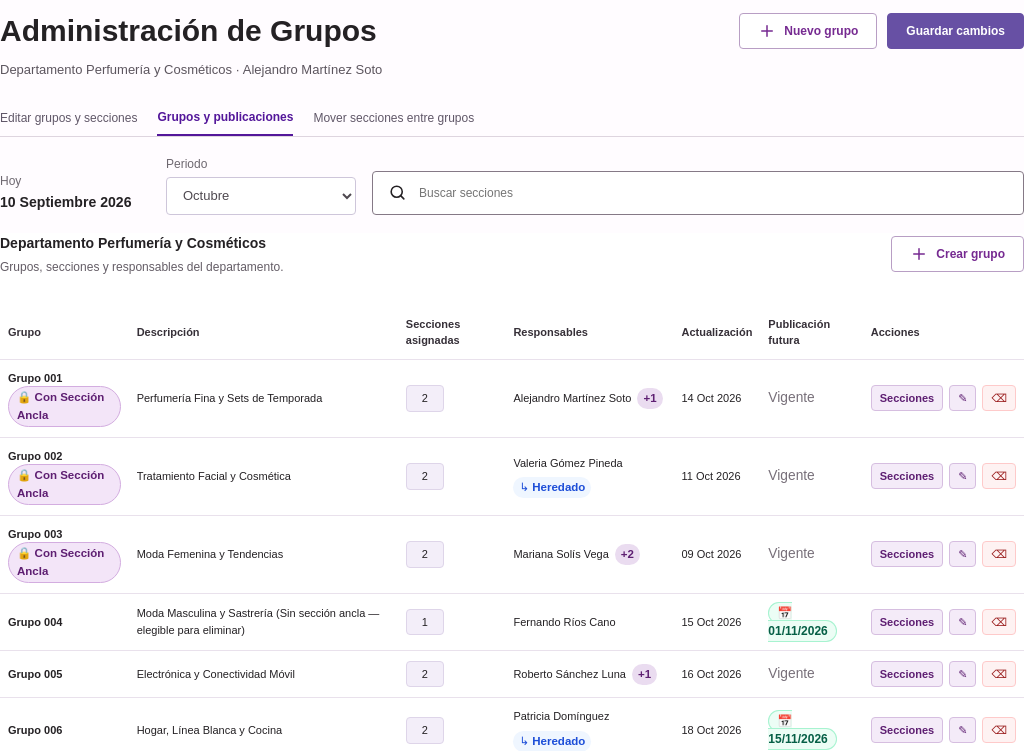
Test case: Feature 3 — Gestión de Estructuras, Grupos y Secciones (CU-EST-001, CU-ADM-001..004) › CU-ADM-004: Permite mover secciones entre grupos con bandeja de cambios pendientes y confirmación de impacto
The image size is (1024, 751).
Cambiar a la pestaña 3: Mover Secciones entre Grupos (CU-ADM-004)
Click the tab with aria-label "3. Mover Secciones entre Grupos" at (394,118), box [313,100,474,136]
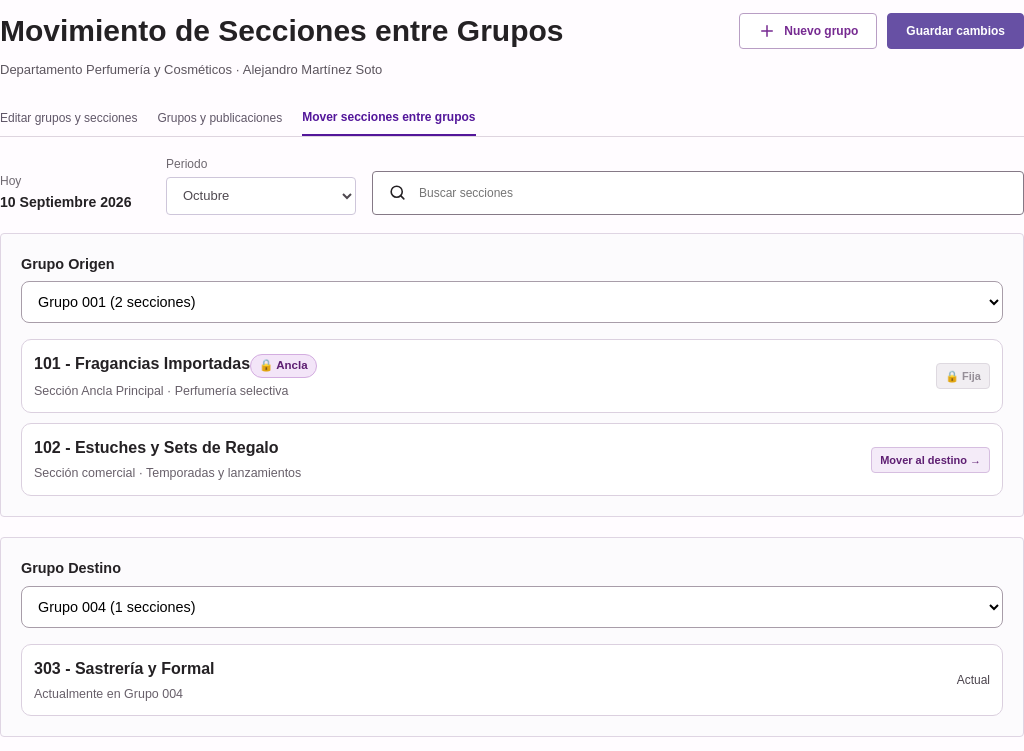
Check: the button "Mover al destino →" is shown
Click the button "Mover al destino →" at (931,460), box [871,447,990,473]
(page scrolled)
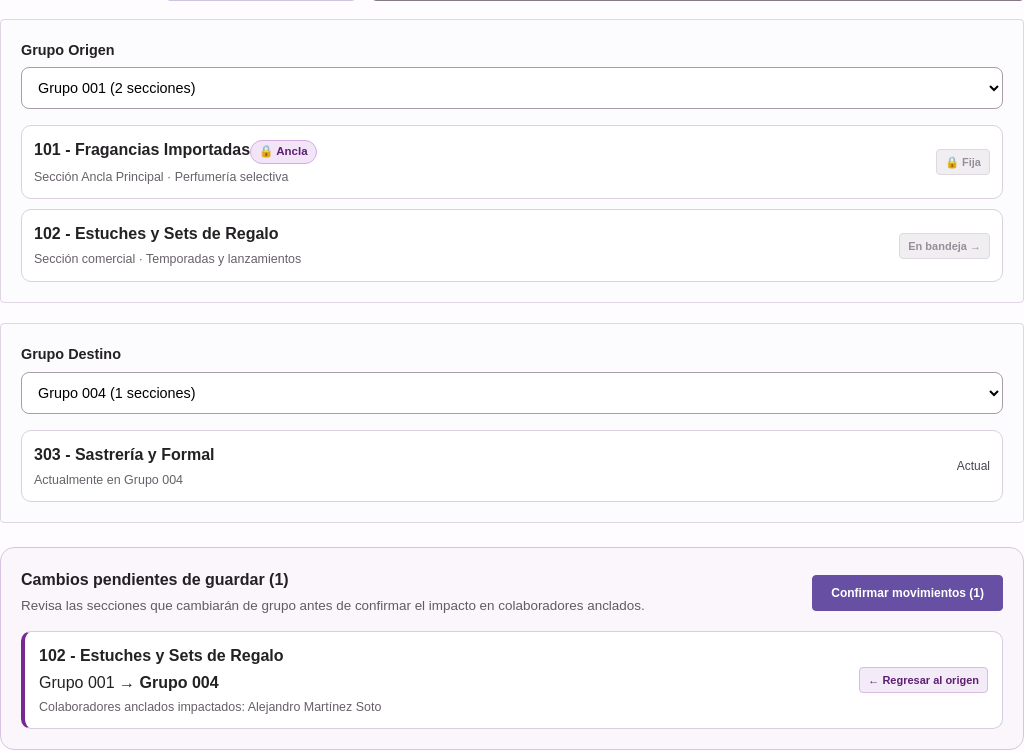
Check: the button "← Regresar al origen" is shown, box [859,667,988,693]
Abrir modal de confirmación de movimientos
Click the button "Confirmar movimientos (1)" at (908,593), box [812,575,1003,611]
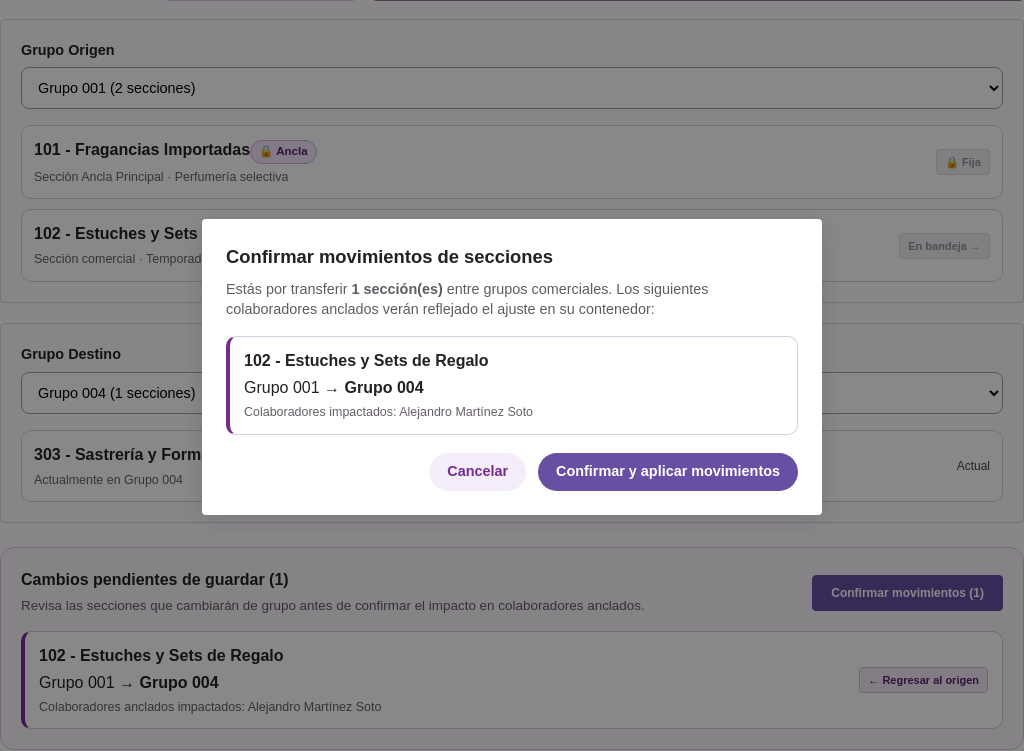
Check: the heading "Confirmar movimientos de secciones" is shown, box [226,246,553,267]
Click the button "Confirmar y aplicar movimientos" at (668,472), box [538,453,798,491]
(page scrolled)
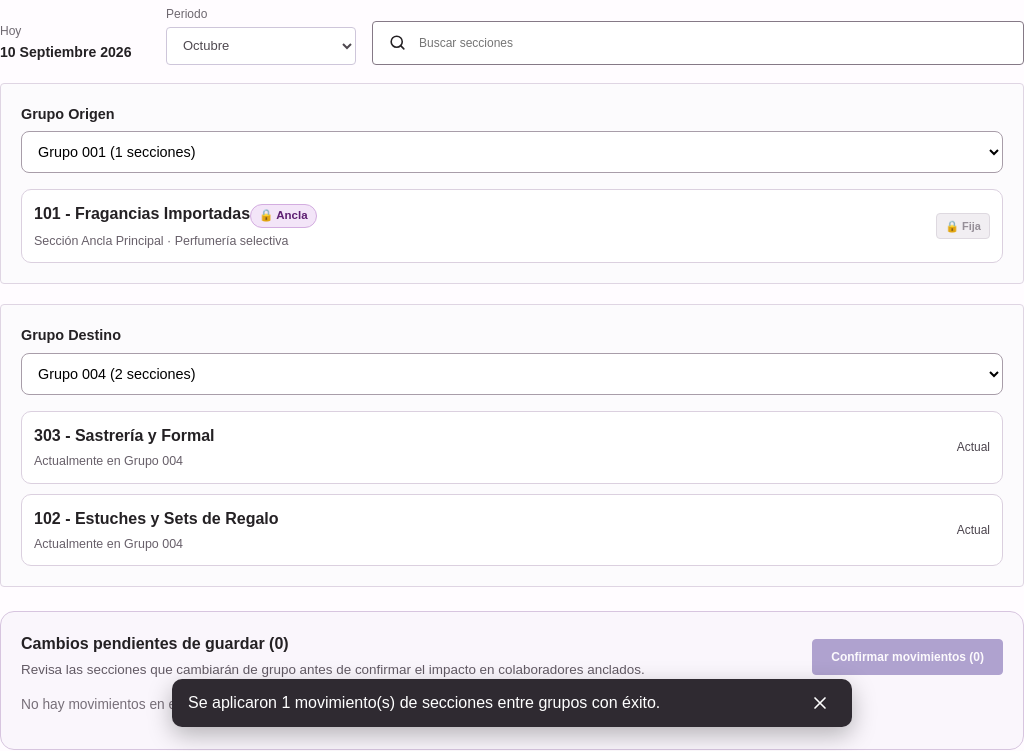
Check: the text "Se aplicaron 1 movimiento(s) de secciones entre grupos con éxito" is shown, box [188,694,660,711]
